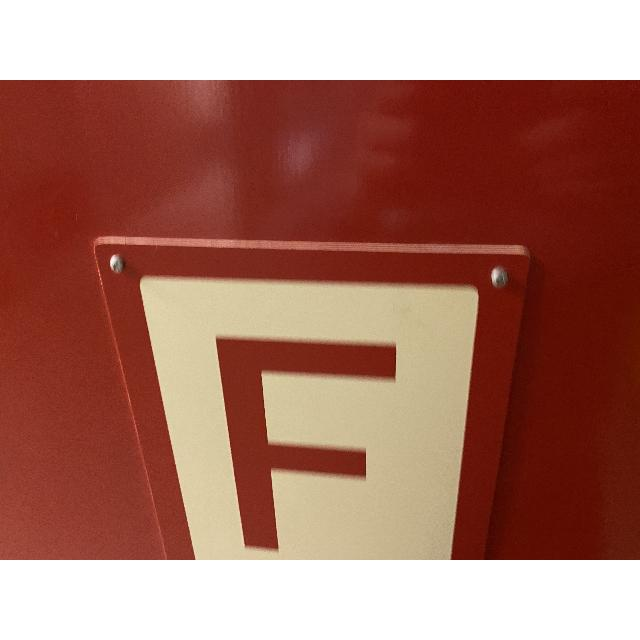fire extinguisher: (93, 236, 531, 560)
